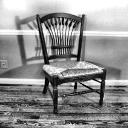chair_success: (29, 11, 112, 115)
